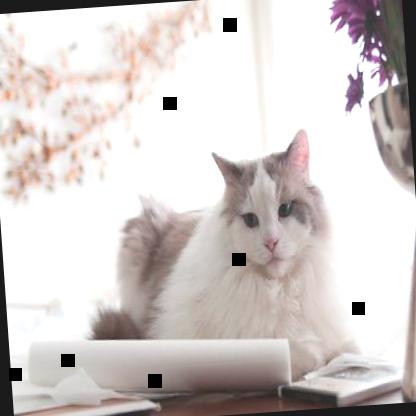cat: (76, 126, 364, 396)
